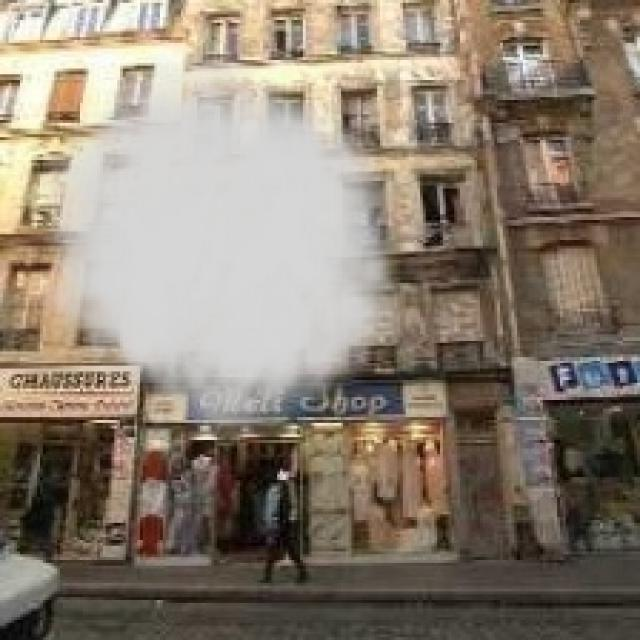Smoke: (34, 40, 417, 449)
